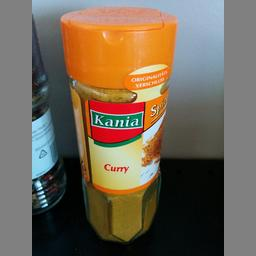spices: (58, 4, 177, 242)
